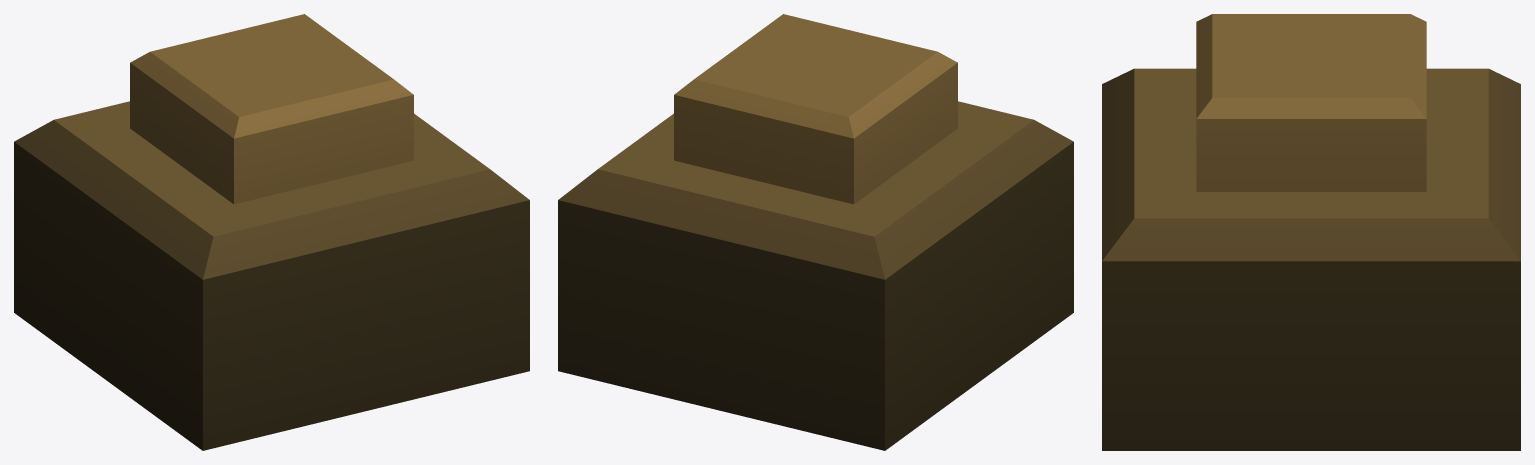
The model's file is chemical-plant.glb.
The picture shows the model from 3 angles, left to right: view 1: azimuth 30°, elevation 25°; view 2: azimuth 150°, elevation 25°; view 3: azimuth 270°, elevation 25°; orthographic projection. The views are drawn at different scales.
Visible parts, largest first — view 1: chemical-plant; view 2: chemical-plant; view 3: chemical-plant.
Boxes of the visible parts, x1=… form: chemical-plant: x1=14, y1=14, x2=529, y2=450; chemical-plant: x1=558, y1=14, x2=1073, y2=450; chemical-plant: x1=1102, y1=14, x2=1520, y2=450.
Size of the model in its own units: 0.26 by 0.21 by 0.26.
